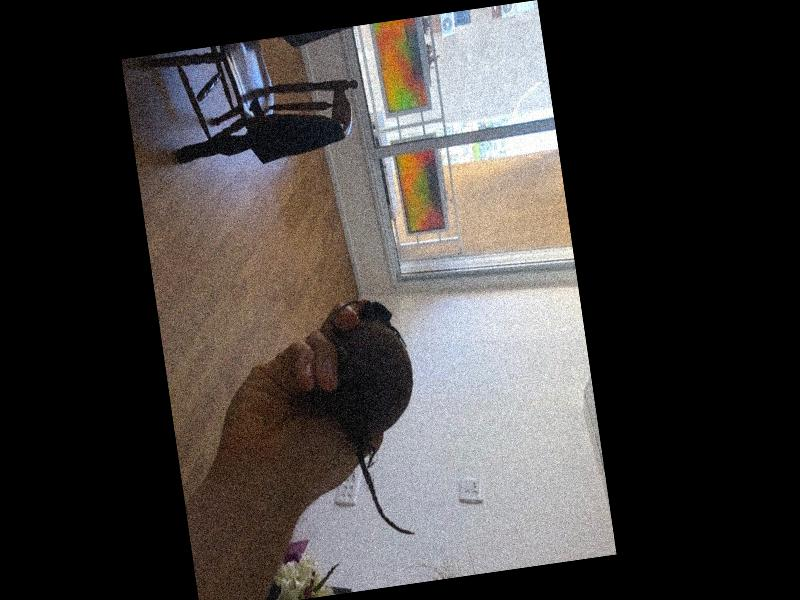Beet: (322, 292, 434, 540)
